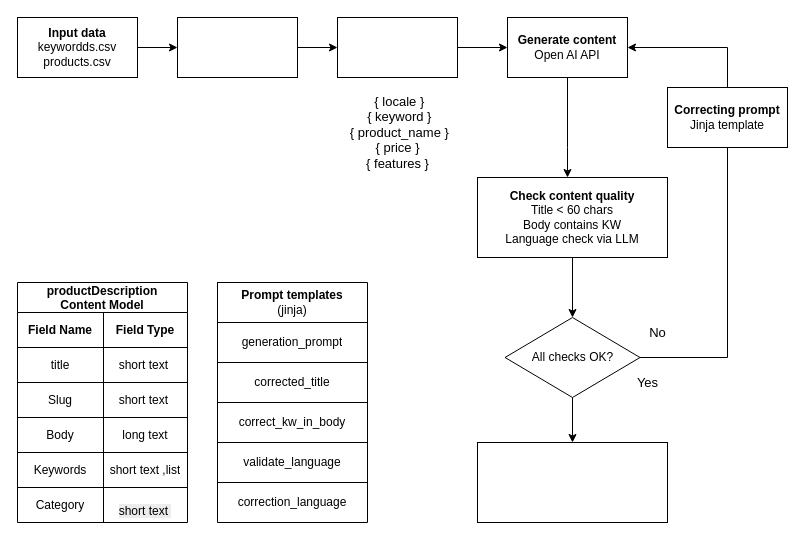
The diagram is 805 pixels wide and 543 high, and some of its shapes have lost their labels. Each missing label, with the centre of its shape:
"Contentful API Create draft and push it." goes at point (572, 482).
"generation_prompt Jinja template" goes at point (397, 47).
"Selector Choose Locales & Keywords (KW)" goes at point (237, 47).
